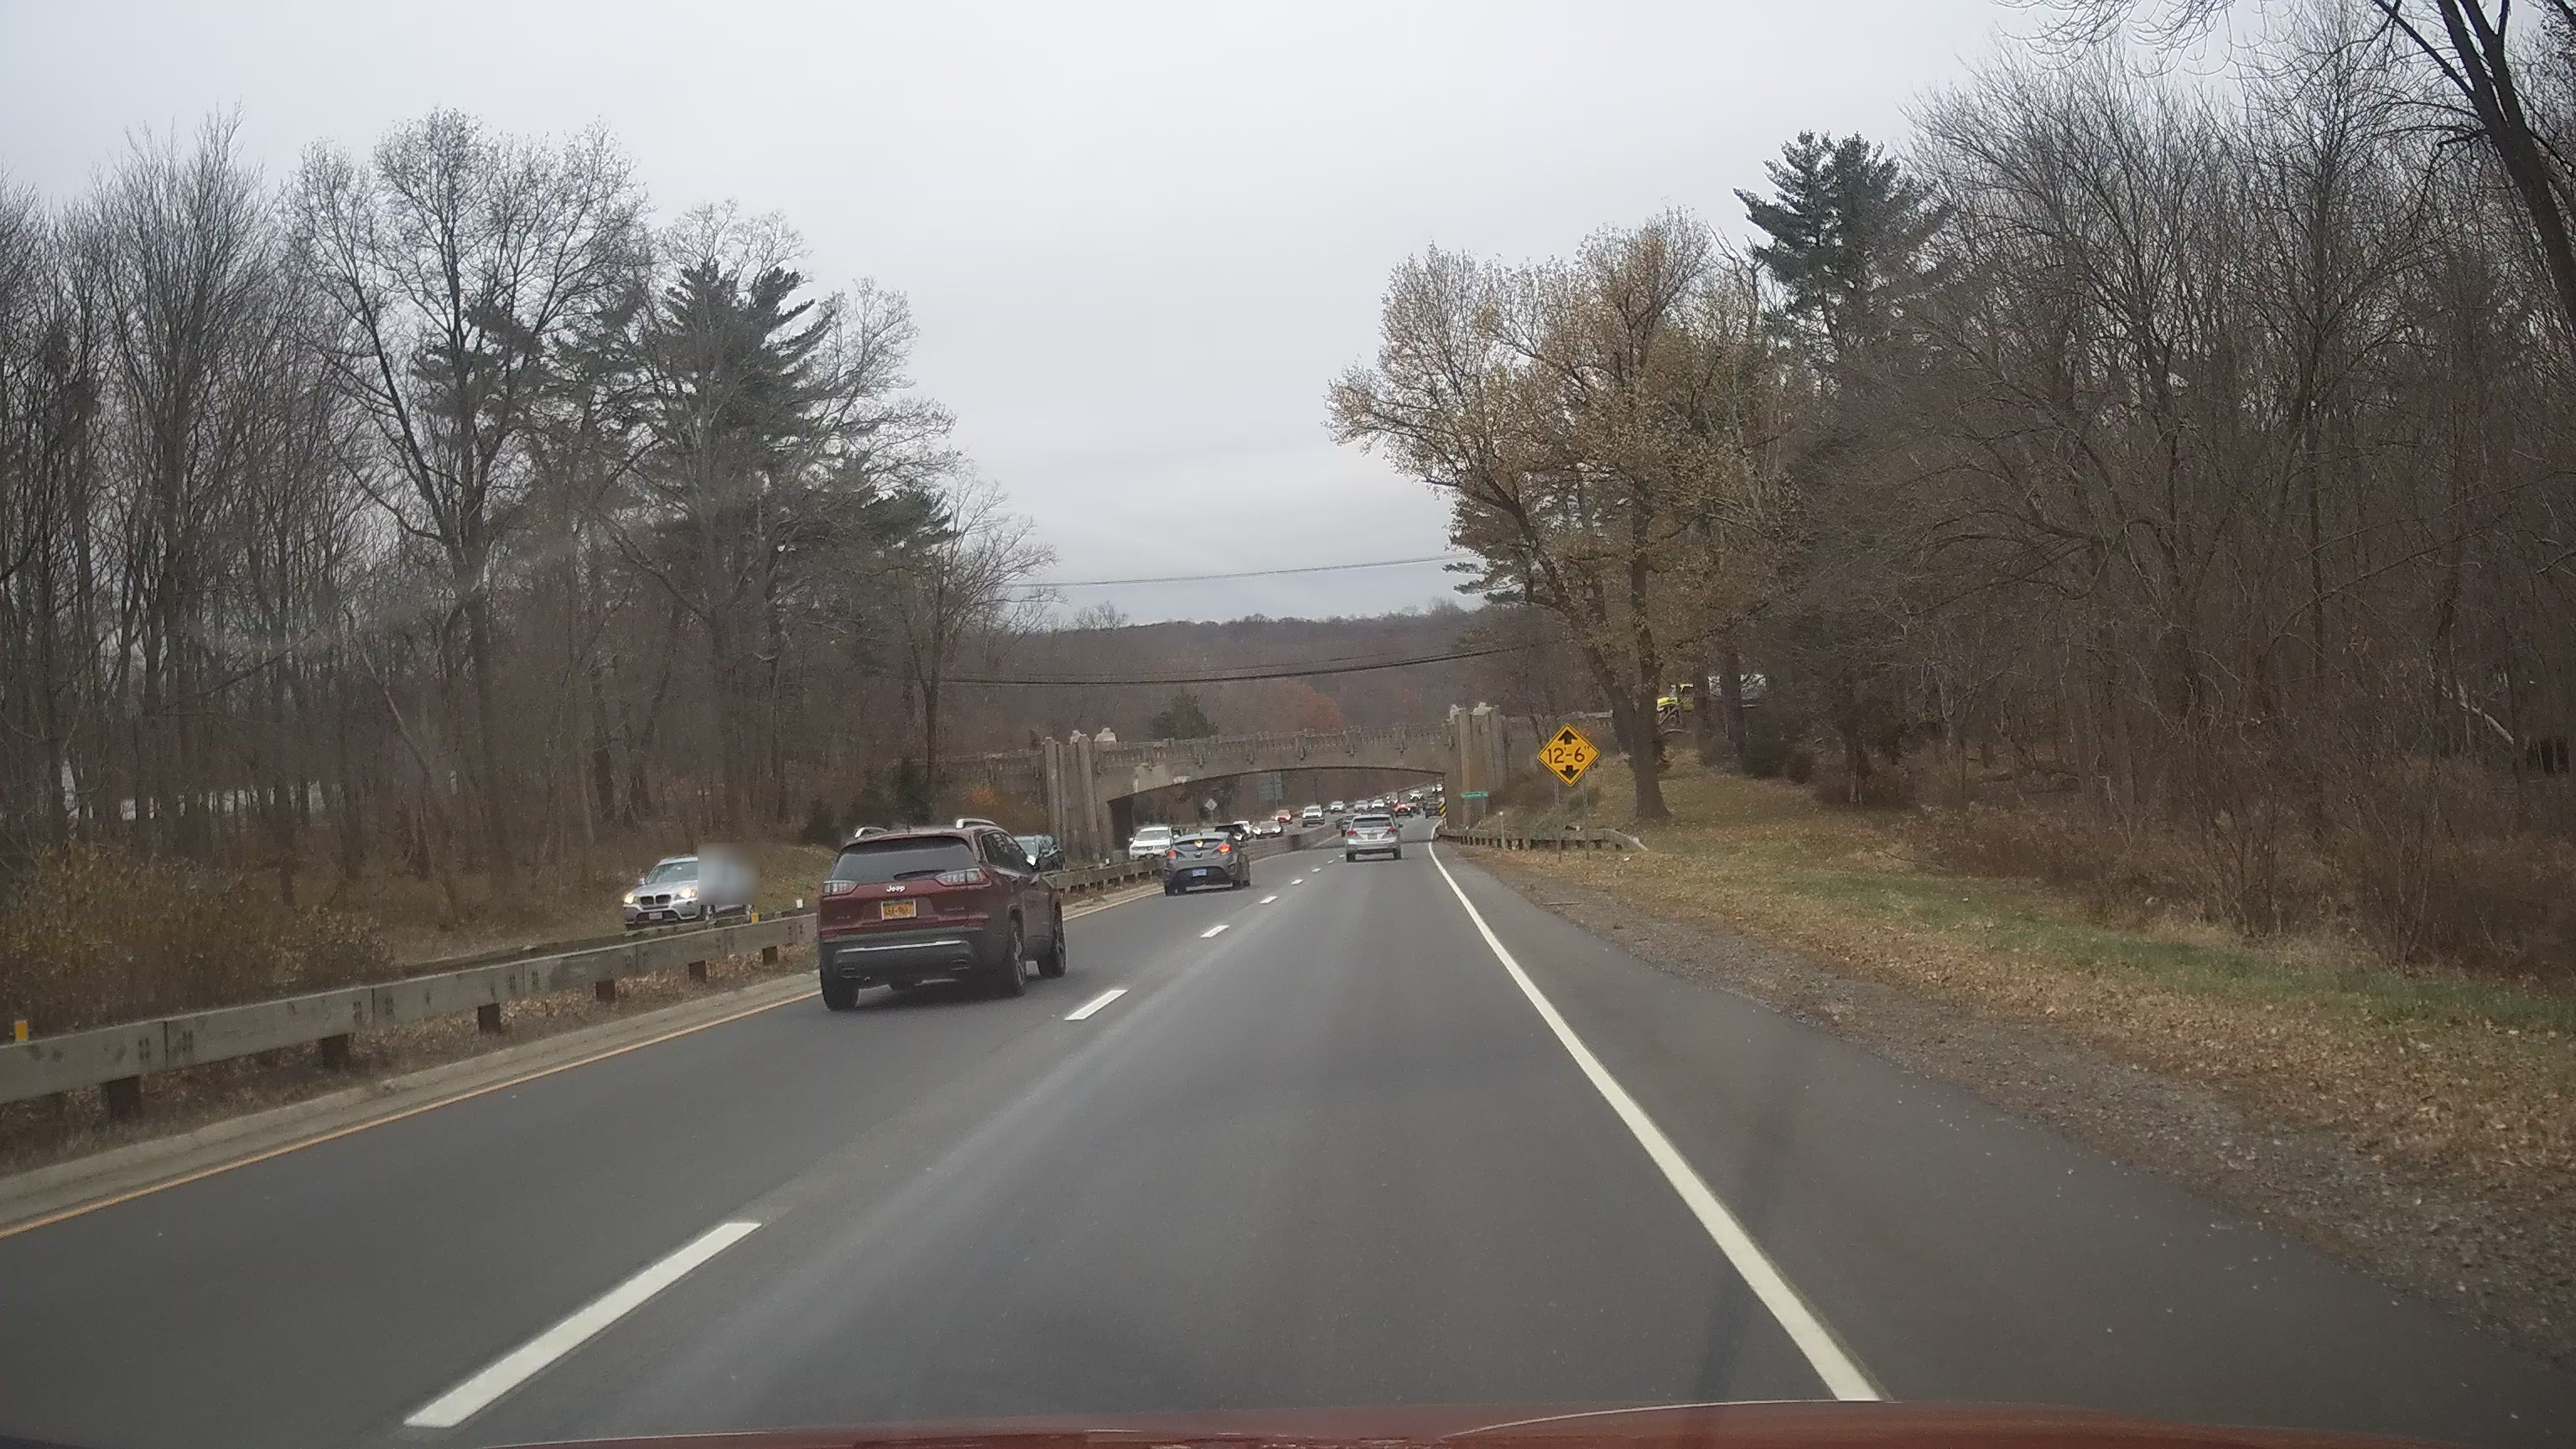low-clearance-sign: (1536, 722, 1601, 787)
